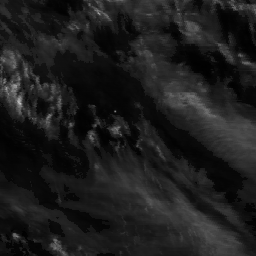Target: (112, 109, 117, 114)
